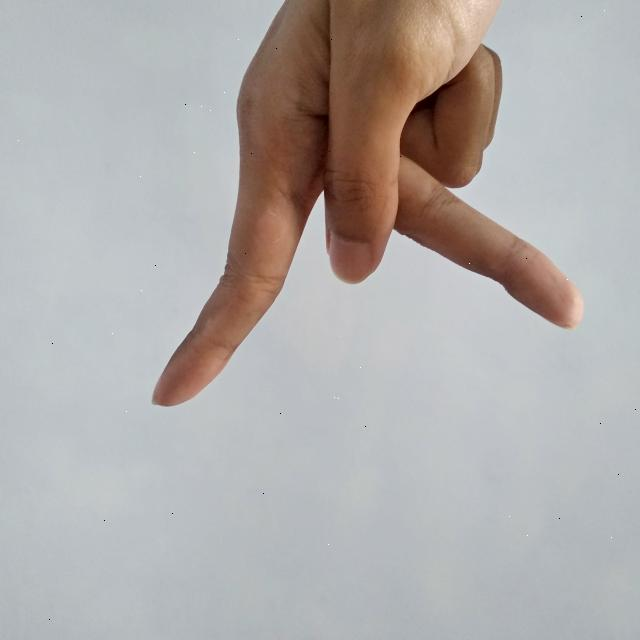P: (143, 0, 586, 423)
